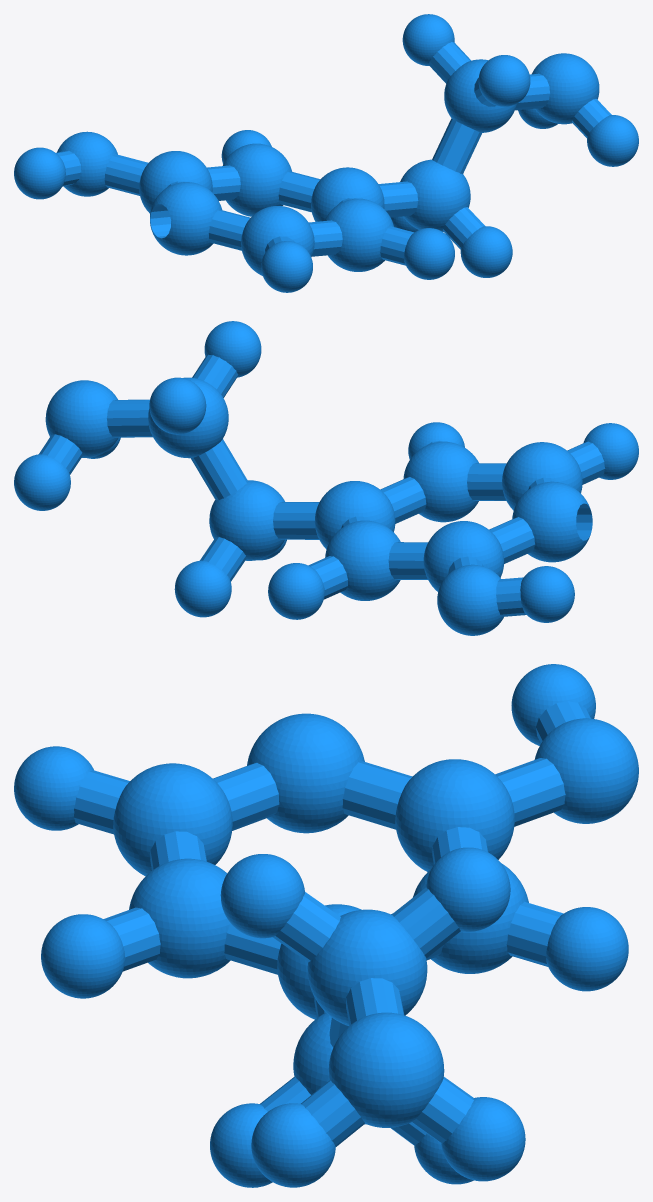
The model's file is 681-bas-color-print_NIH3D-mr.glb.
3 renders of one model, top to bottom at view 1: azimuth 30°, elevation 25°; view 2: azimuth 150°, elevation 25°; view 3: azimuth 270°, elevation 25°, orthographic. The views are drawn at different scales.
Parts seen in each view (by area): view 1: 681-bas-color-print_NIH3D-mr; view 2: 681-bas-color-print_NIH3D-mr; view 3: 681-bas-color-print_NIH3D-mr.
Boxes of the visible parts, box(x1,y1,x2,y2) form: 681-bas-color-print_NIH3D-mr: box(14, 14, 638, 292); 681-bas-color-print_NIH3D-mr: box(14, 321, 638, 635); 681-bas-color-print_NIH3D-mr: box(14, 664, 638, 1187).
Bounding box in the file's own units: 8.61 × 3.27 × 5.32.
